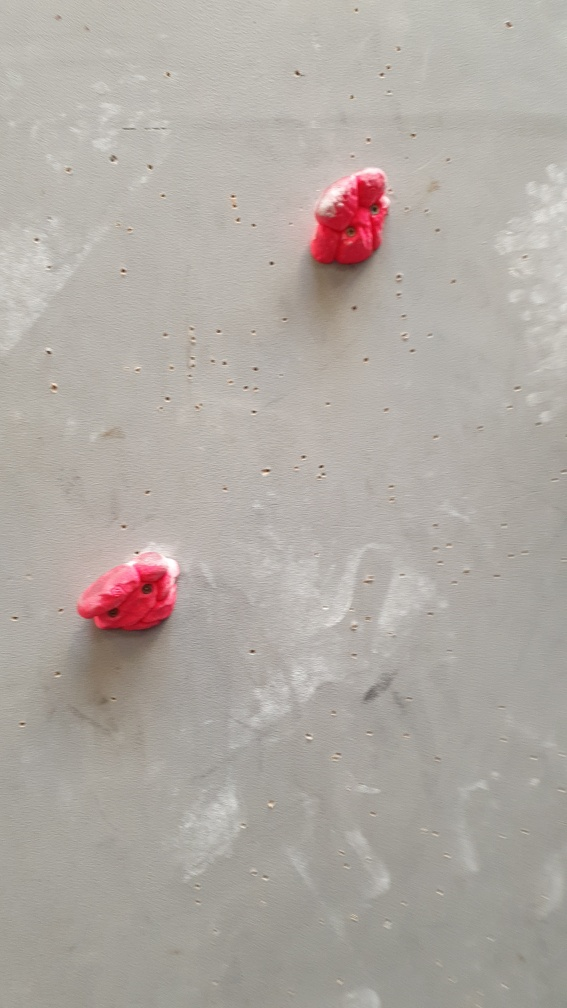Jug: (75, 546, 183, 636), (307, 165, 395, 272)
